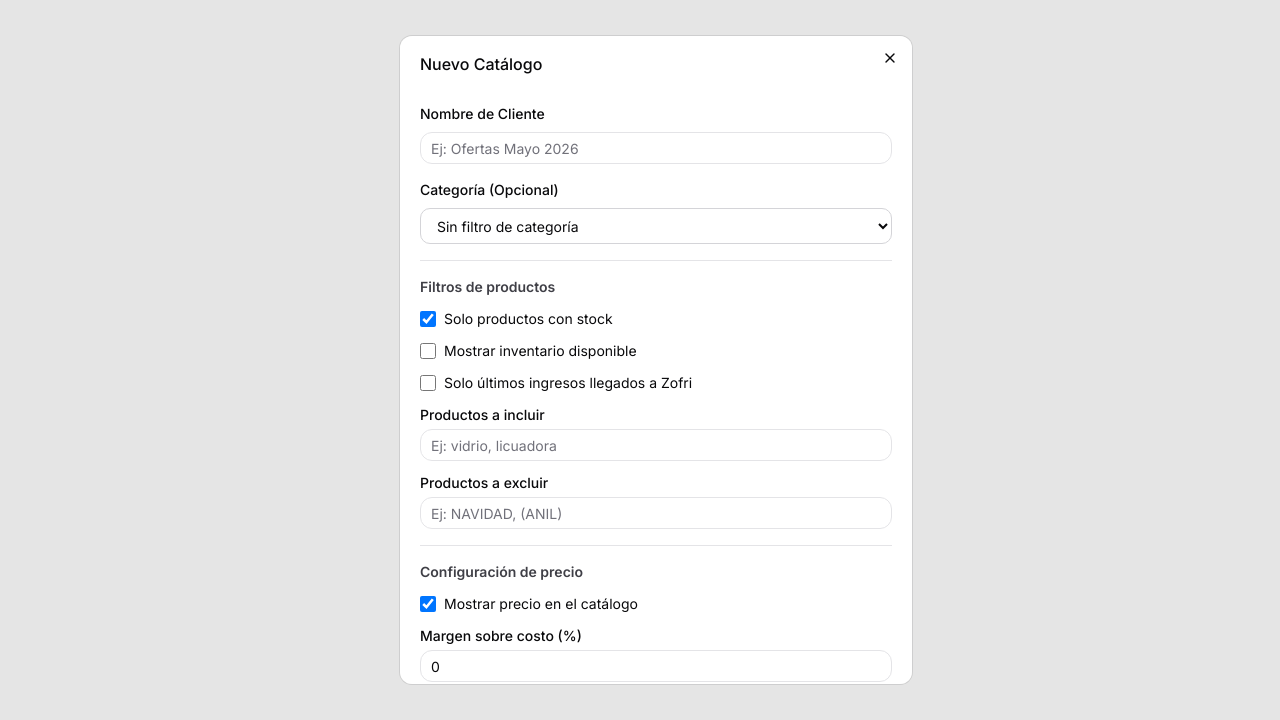
it: CrearCatalogoDialog — Slice 3: solo últimos N ingresos › input numérico visible con valor 1 cuando el checkbox se marca
Click the checkbox labelled "Solo últimos ingresos llegados a Zofri": click(428, 383) [420,375,436,391]
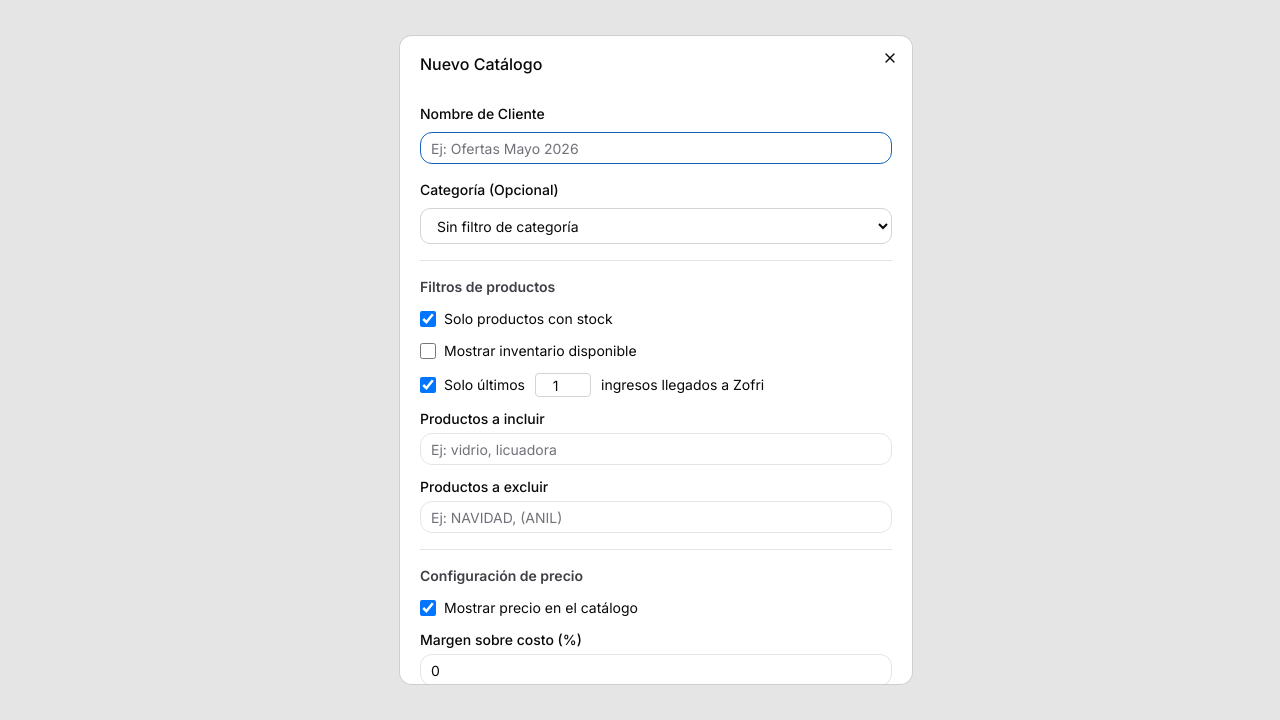
Check: the number field named "top n" holds "1", box [535,373,591,397]
